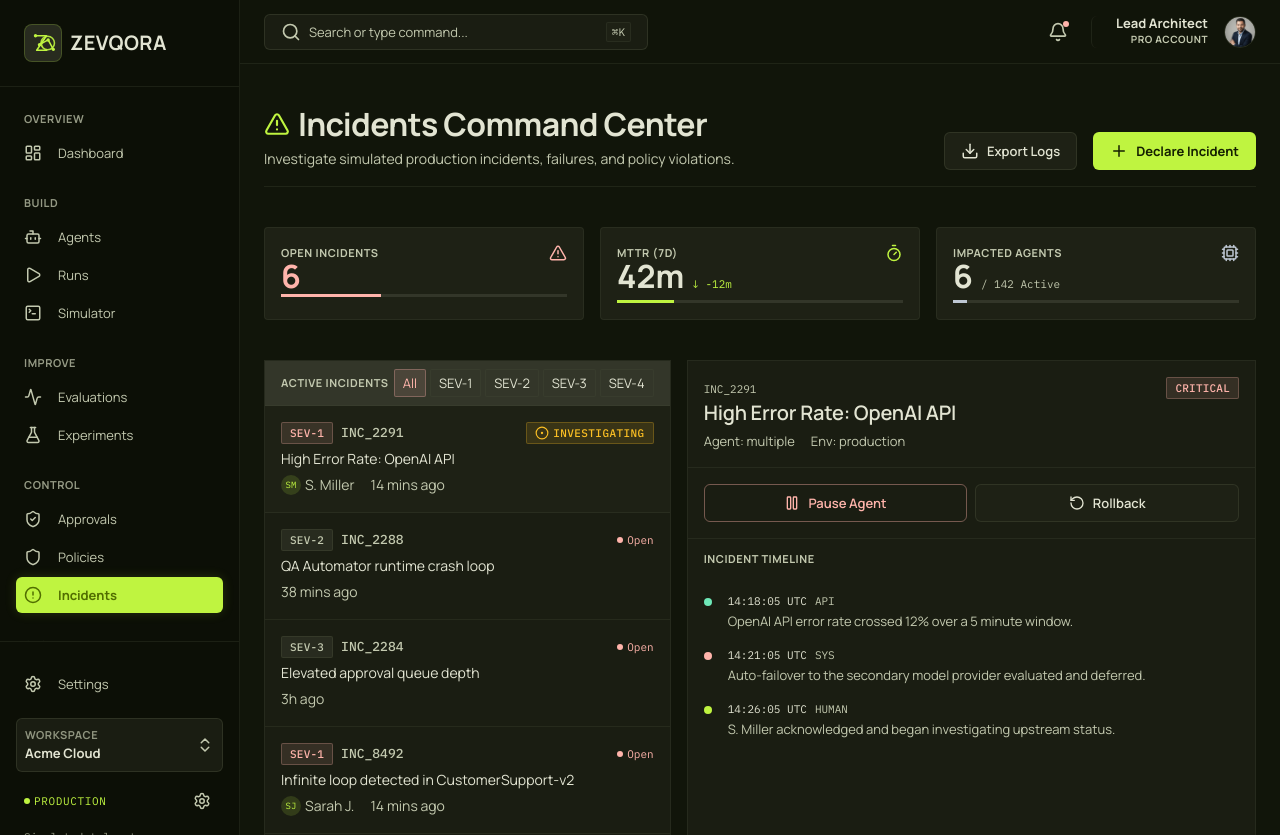
Incidents › filtering by severity narrows the incident list
Expected: the text "Infinite loop detected in CustomerSupport-v2" is shown, [281, 770, 574, 789]
Click the button "SEV-3": [569, 383] box [543, 369, 596, 397]
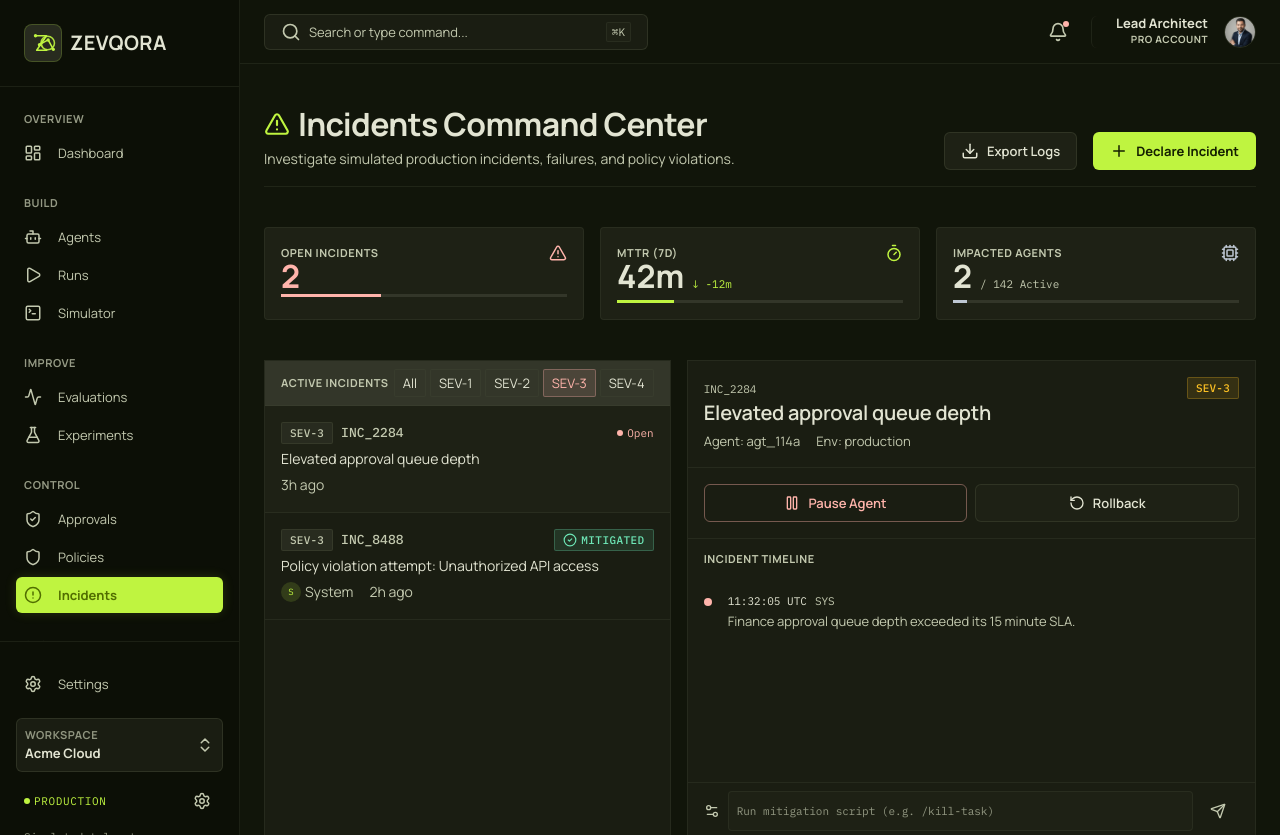
Now the button "Infinite loop detected" is gone
